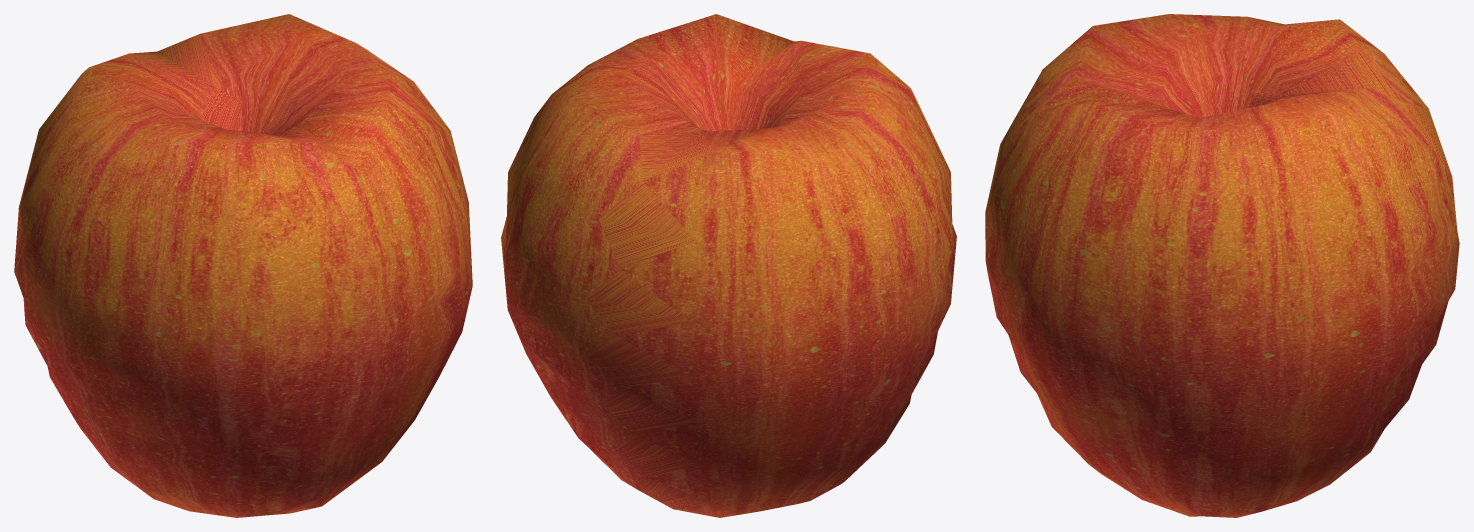
Rendered from apple.fbx.
3 views of the same model, side by side, from view 1: azimuth 30°, elevation 25°; view 2: azimuth 150°, elevation 25°; view 3: azimuth 270°, elevation 25° (orthographic). The views are drawn at different scales.
Visible parts, largest first — view 1: Apple.Torso; view 2: Apple.Torso; view 3: Apple.Torso.
Boxes of the visible parts, x1=… form: Apple.Torso: x1=14, y1=14, x2=472, y2=517; Apple.Torso: x1=501, y1=14, x2=956, y2=517; Apple.Torso: x1=985, y1=14, x2=1459, y2=517.
Size of the model in its own units: 6.68 by 6.65 by 6.7.
Materials: 1 (1 with a texture image).
